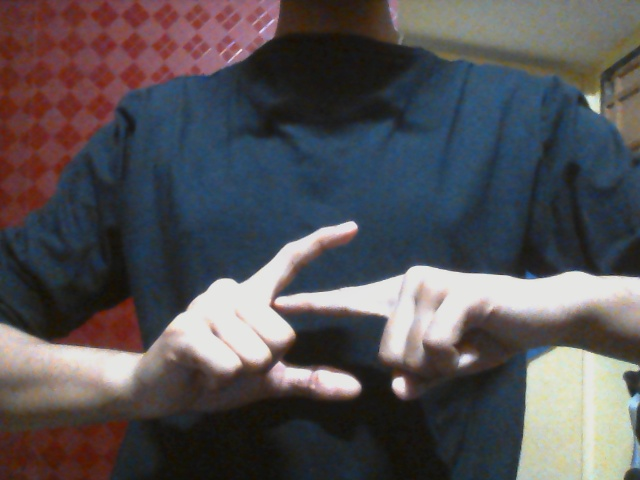E: (166, 219, 513, 417)
